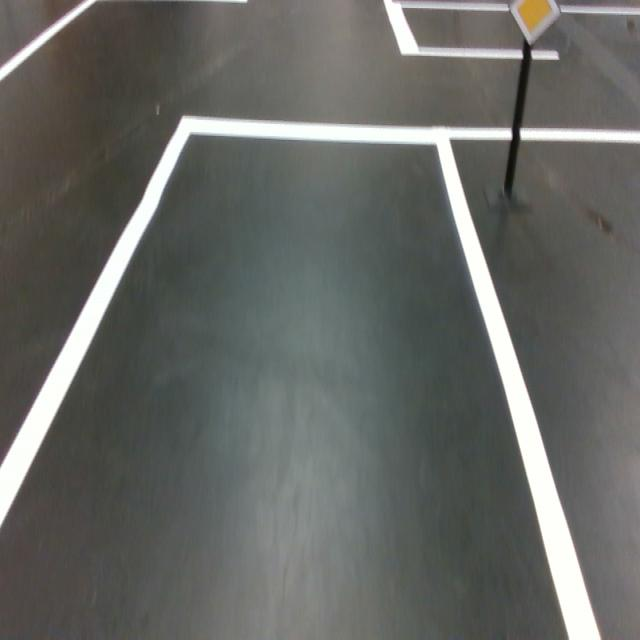priority-sign: (510, 0, 560, 47)
